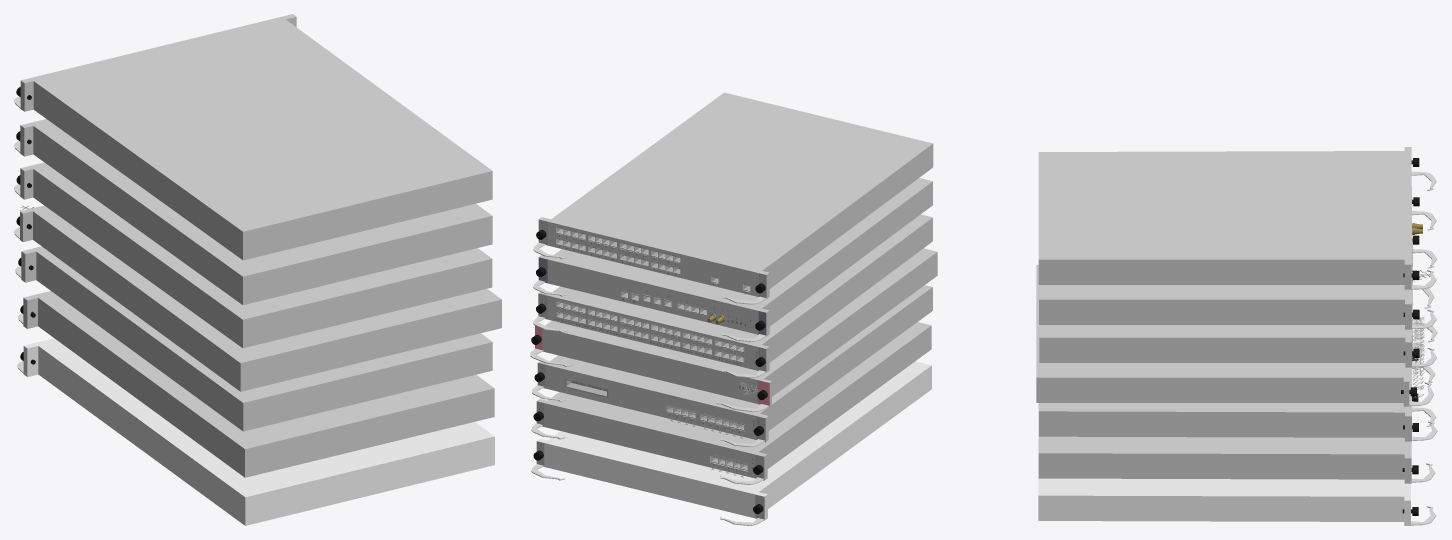
File: x16card.glb
3 renders of one model, left to right at view 1: azimuth 30°, elevation 25°; view 2: azimuth 150°, elevation 25°; view 3: azimuth 270°, elevation 25°, orthographic. The views are drawn at different scales.
Visible parts, largest first — view 1: CR5DL2XEFG71, 空板子, CR5D0L5XFL70, CR5D0MPUB570, CR5DSFUIE07B, CR5D0EMGFL70, CR5DE1NLAX76; view 2: CR5DL2XEFG71, 空板子, CR5D0L5XFL70, CR5D0MPUB570, CR5DSFUIE07B, CR5DE1NLAX76, CR5D0EMGFL70; view 3: CR5DL2XEFG71, 空板子, CR5D0L5XFL70, CR5DSFUIE07B, CR5D0MPUB570, CR5D0EMGFL70, CR5DE1NLAX76.
Part boxes in pixels (x1,y1,x2,y2): CR5DL2XEFG71: (20,14,492,260); 空板子: (23,338,494,525); CR5D0L5XFL70: (23,291,494,477); CR5D0MPUB570: (20,119,492,305); CR5DSFUIE07B: (20,205,501,391); CR5D0EMGFL70: (20,162,492,348); CR5DE1NLAX76: (21,246,492,431); CR5DL2XEFG71: (538,92,933,298); 空板子: (536,361,931,520); CR5D0L5XFL70: (536,322,931,480); CR5D0MPUB570: (538,178,932,336); CR5DSFUIE07B: (535,248,937,406); CR5DE1NLAX76: (537,285,932,442); CR5D0EMGFL70: (538,214,932,372); CR5DL2XEFG71: (1038,147,1411,289); 空板子: (1038,403,1410,525); CR5D0L5XFL70: (1038,403,1411,483); CR5DSFUIE07B: (1036,265,1409,406); CR5D0MPUB570: (1039,187,1411,329); CR5D0EMGFL70: (1039,325,1411,367); CR5DE1NLAX76: (1039,367,1411,441).
Bounding box in the file's own units: 0.4263 × 0.6153 × 0.6277.
19 materials, 2 textured.
